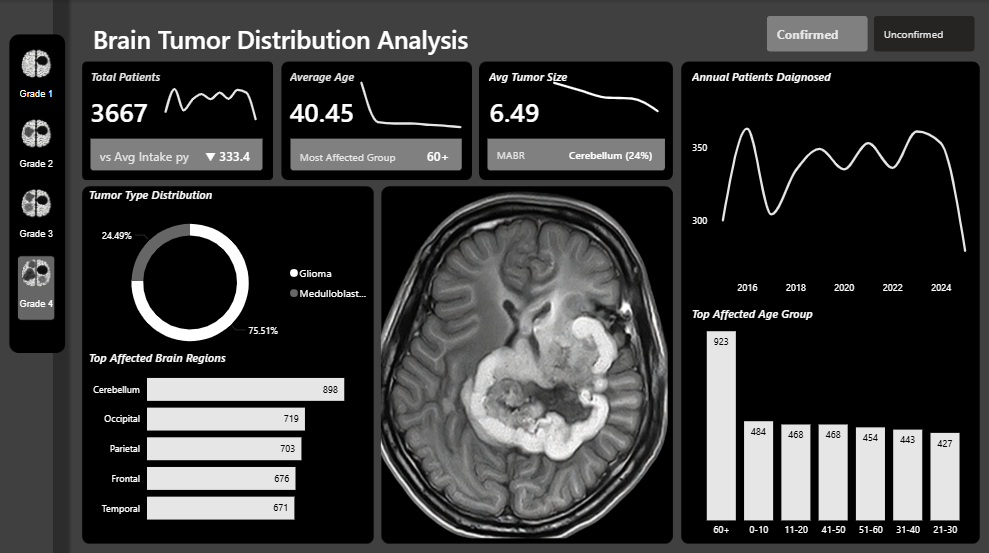

This screenshot's page, from the dashboard's own definition file:
{"tool":"powerbi","page":{"name":"Page 1","canvas":[1280,720],"ordinal":0},"visuals":[{"type":"cardVisual","fields":{"Data":["Count(Brain Tumor Data.Patient ID)"]},"box":[92.1,96.4,137.5,89.3],"z":0},{"type":"lineChart","fields":{"Category":["Brain Tumor Data.Date of Diagnosis.Variation.Date Hierarchy.Year"],"Y":["CountNonNull(Brain Tumor Data.Patient ID)"]},"box":[202.7,83.6,146,89.3],"z":1000},{"type":"cardVisual","fields":{"Data":["Count(Brain Tumor Data.Patient ID)"]},"box":[92.1,83.6,280.6,165.8],"z":2000},{"type":"textbox","box":[116.2,83.6,113.4,45.4],"z":3000},{"type":"cardVisual","fields":{"Data":["Avg(Brain Tumor Data.Age)"]},"box":[348.7,96.4,151.7,89.3],"z":4000},{"type":"lineChart","fields":{"Y":["CountNonNull(Brain Tumor Data.Patient ID)"],"Category":["Brain Tumor Data.Age Group"]},"box":[456.4,83.6,154.5,89.3],"z":5000},{"type":"cardVisual","fields":{"Data":["Count(Brain Tumor Data.Patient ID)"]},"box":[350.1,83.6,279.2,165.8],"z":6000},{"type":"textbox","box":[372.8,83.6,113.4,45.4],"z":7000},{"type":"textbox","box":[629.3,83.6,113.4,45.4],"z":8000},{"type":"cardVisual","fields":{"Data":["Count(Brain Tumor Data.Patient ID)"]},"box":[603.8,83.6,287.7,165.8],"z":9000},{"type":"cardVisual","fields":{"Data":["Avg(Brain Tumor Data.Tumor Size (cm))"]},"box":[606.6,96.4,141.7,89.3],"z":10000},{"type":"lineChart","fields":{"Y":["Avg(Brain Tumor Data.Tumor Size (cm))"],"Category":["Brain Tumor Data.Affected Brain Region"]},"box":[700.2,83.6,170.1,89.3],"z":11000},{"type":"advancedSlicerVisual","fields":{"Values":["Brain Tumor Data.Histology Confirmation"]},"box":[987.9,15.6,279.2,56.7],"z":12000},{"type":"ChicletSlicer1448559807354","fields":{"Category":["Tumor Images.Tumor Grade"],"Image":["Tumor Images.Icon URL"]},"box":[18.4,51,73.7,395.4],"z":13000},{"type":"imageDB603108E3FF4EBFB8047F5653368E8C","fields":{"imageUrl":["Tumor Images.Image URL"]},"box":[490.4,236.7,379.8,464.9],"z":14000},{"type":"donutChart","fields":{"Category":["Brain Tumor Data.Tumor Type"],"Y":["CountNonNull(Brain Tumor Data.Patient ID)"]},"box":[116.2,249.4,377,231],"z":15000},{"type":"textbox","box":[113.4,236.7,177.2,45.4],"z":16000},{"type":"clusteredBarChart","fields":{"Category":["Brain Tumor Data.Affected Brain Region"],"Y":["CountNonNull(Brain Tumor Data.Patient ID)"]},"box":[113.4,459.2,367.1,232.4],"z":17000},{"type":"textbox","box":[113.4,446.5,205.5,45.4],"z":18000},{"type":"lineChart","fields":{"Y":["CountNonNull(Brain Tumor Data.Patient ID)"],"Category":["Brain Tumor Data.Date of Diagnosis.Variation.Date Hierarchy.Year"]},"box":[891.5,120.5,375.6,269.3],"z":19000},{"type":"textbox","box":[891.5,83.6,205.5,36.9],"z":20000},{"type":"clusteredColumnChart","fields":{"Category":["Brain Tumor Data.Age Group"],"Y":["CountNonNull(Brain Tumor Data.Patient ID)"]},"box":[891.5,389.8,375.6,311.8],"z":21000},{"type":"textbox","box":[891.5,389.8,188.5,39.7],"z":22000},{"type":"textbox","box":[119.1,22.7,521.6,60.9],"z":22001}]}

Visuals, with their boxes on the page's 1280x720 design canvas (x1, y1, x2, y2). These are canvas units, not pixel positions in the 989x553 screenshot, which may show the page scaled, cropped or inside an application window:
cardVisual - Count(Brain Tumor Data.Patient ID): region(92, 96, 230, 186)
lineChart - Brain Tumor Data.Date of Diagnosis.Variation.Date Hierarchy.Year x CountNonNull(Brain Tumor Data.Patient ID): region(203, 84, 349, 173)
cardVisual - Count(Brain Tumor Data.Patient ID): region(92, 84, 373, 249)
textbox: region(116, 84, 230, 129)
cardVisual - Avg(Brain Tumor Data.Age): region(349, 96, 500, 186)
lineChart - CountNonNull(Brain Tumor Data.Patient ID) x Brain Tumor Data.Age Group: region(456, 84, 611, 173)
cardVisual - Count(Brain Tumor Data.Patient ID): region(350, 84, 629, 249)
textbox: region(373, 84, 486, 129)
textbox: region(629, 84, 743, 129)
cardVisual - Count(Brain Tumor Data.Patient ID): region(604, 84, 892, 249)
cardVisual - Avg(Brain Tumor Data.Tumor Size (cm)): region(607, 96, 748, 186)
lineChart - Avg(Brain Tumor Data.Tumor Size (cm)) x Brain Tumor Data.Affected Brain Region: region(700, 84, 870, 173)
advancedSlicerVisual - Brain Tumor Data.Histology Confirmation: region(988, 16, 1267, 72)
ChicletSlicer1448559807354 - Tumor Images.Tumor Grade x Tumor Images.Icon URL: region(18, 51, 92, 446)
imageDB603108E3FF4EBFB8047F5653368E8C - Tumor Images.Image URL: region(490, 237, 870, 702)
donutChart - Brain Tumor Data.Tumor Type x CountNonNull(Brain Tumor Data.Patient ID): region(116, 249, 493, 480)
textbox: region(113, 237, 291, 282)
clusteredBarChart - Brain Tumor Data.Affected Brain Region x CountNonNull(Brain Tumor Data.Patient ID): region(113, 459, 480, 692)
textbox: region(113, 446, 319, 492)
lineChart - CountNonNull(Brain Tumor Data.Patient ID) x Brain Tumor Data.Date of Diagnosis.Variation.Date Hierarchy.Year: region(892, 120, 1267, 390)
textbox: region(892, 84, 1097, 120)
clusteredColumnChart - Brain Tumor Data.Age Group x CountNonNull(Brain Tumor Data.Patient ID): region(892, 390, 1267, 702)
textbox: region(892, 390, 1080, 430)
textbox: region(119, 23, 641, 84)
